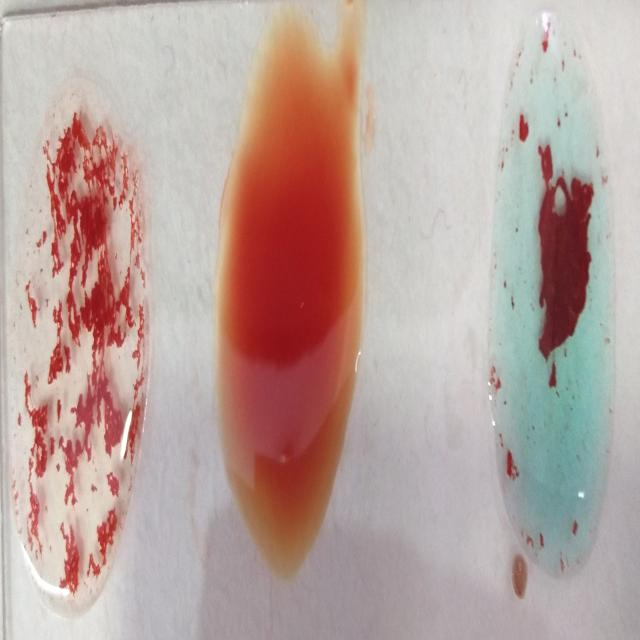A: (492, 43, 620, 582)
D: (10, 75, 147, 611)
